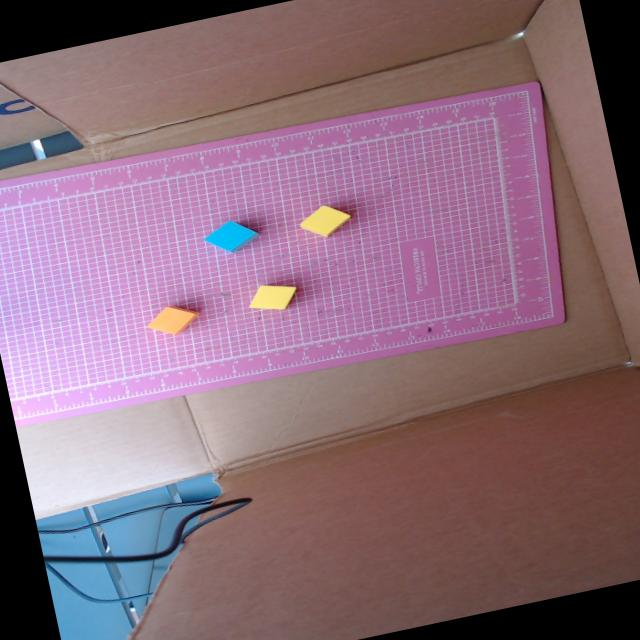bluecube: (204, 220, 258, 251)
orangecube: (147, 305, 199, 333)
yellowcube: (300, 204, 350, 235), (248, 283, 296, 309)
